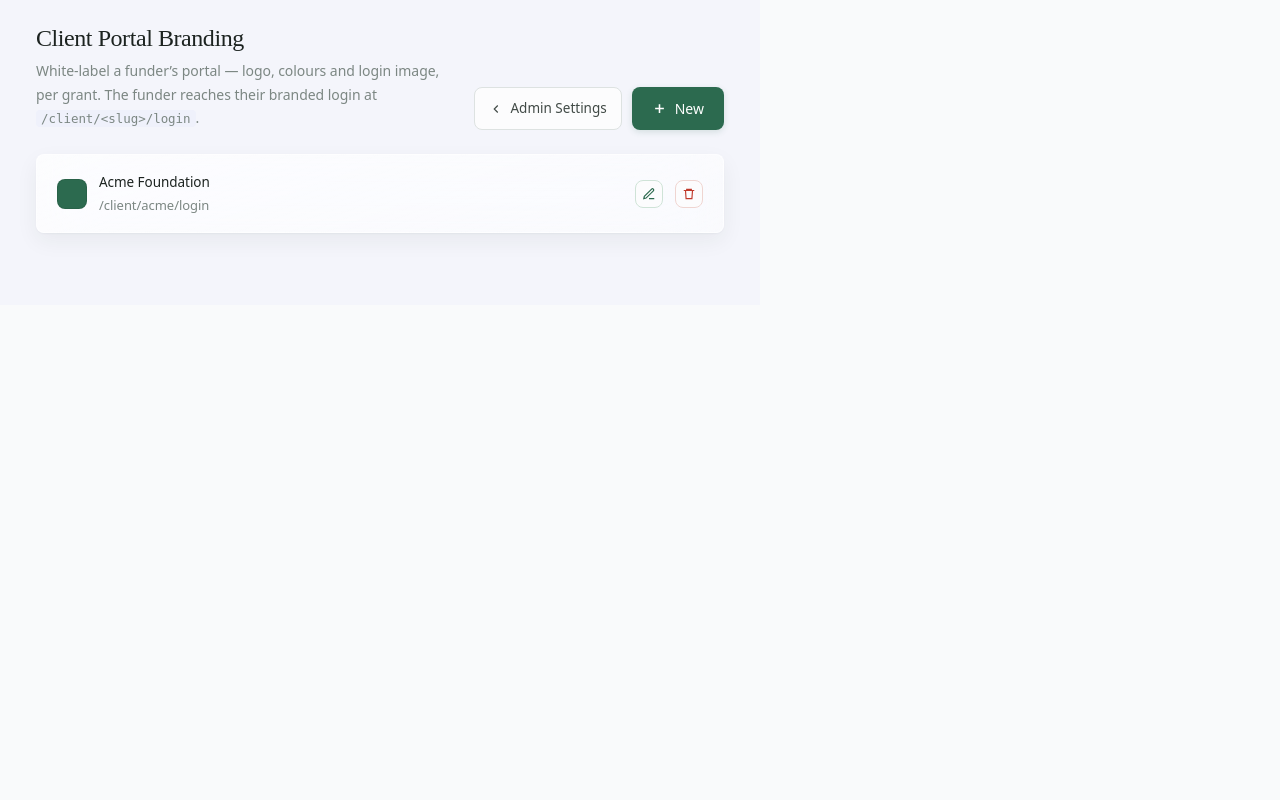
Test case: a new branding suggests its link from the display name until the link is edited
The image size is (1280, 800).
Click the button "New" at (678, 109), box [632,87,724,130]
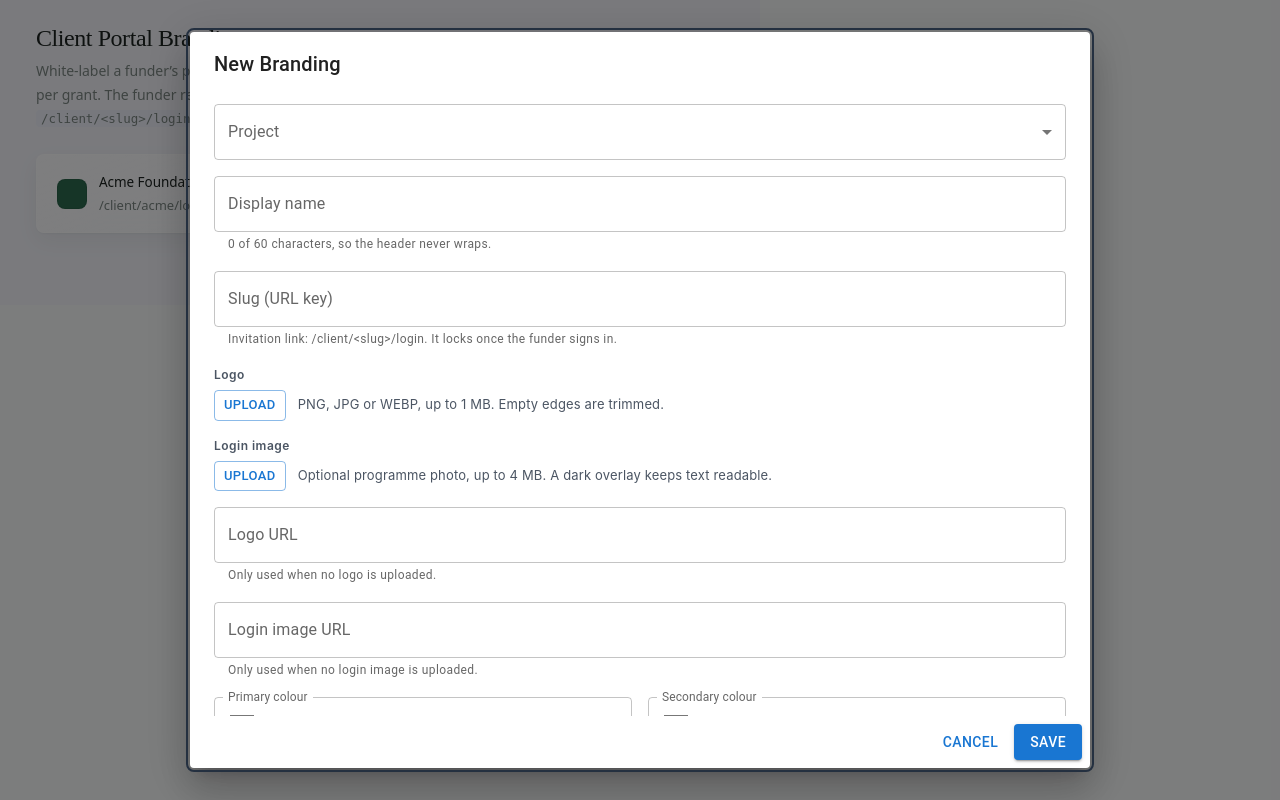
Type "DLF Foundation" into the field labelled "Display name" at (640, 204), box [214,176,1066,232]
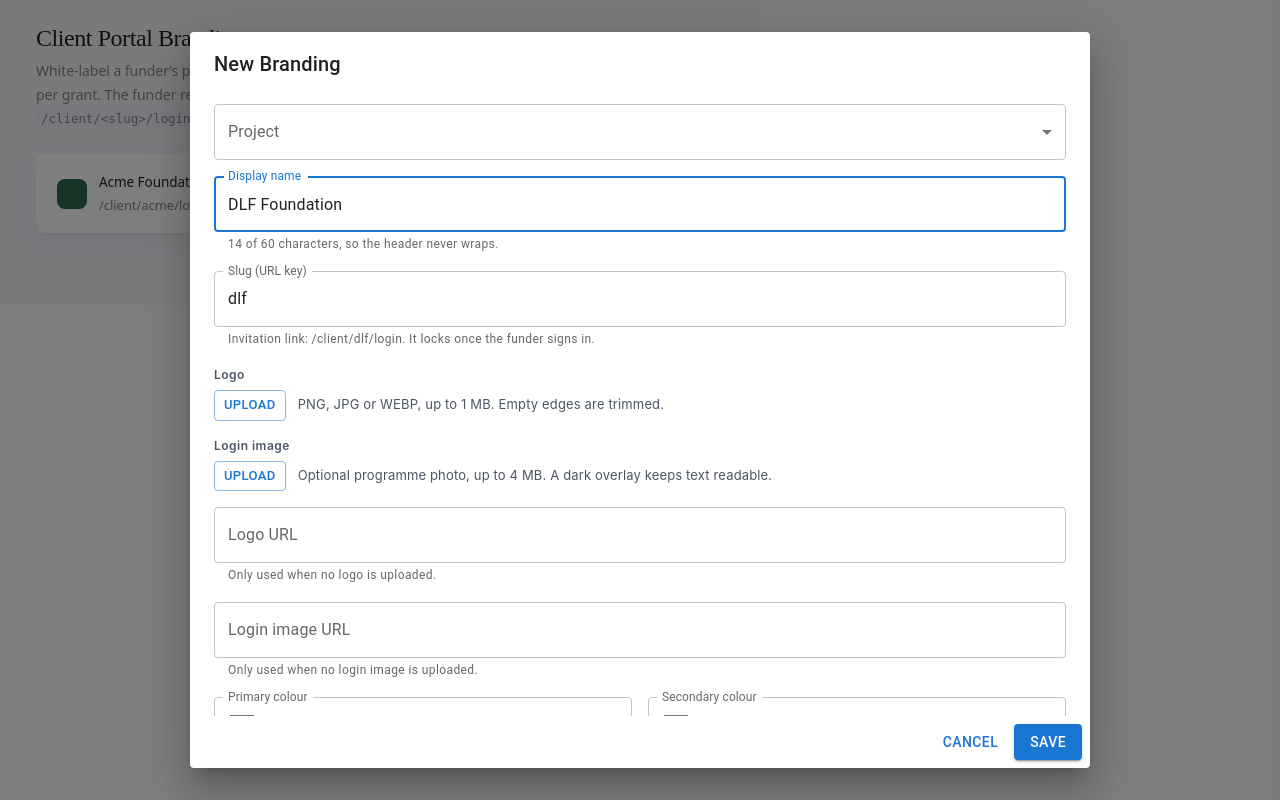
Expected: the field labelled "Slug (URL key)" holds "dlf", [214,271,1066,327]
Expected: the text "Invitation link: /client/dlf/login. It locks once the funder signs in." is shown, [228,332,595,346]
